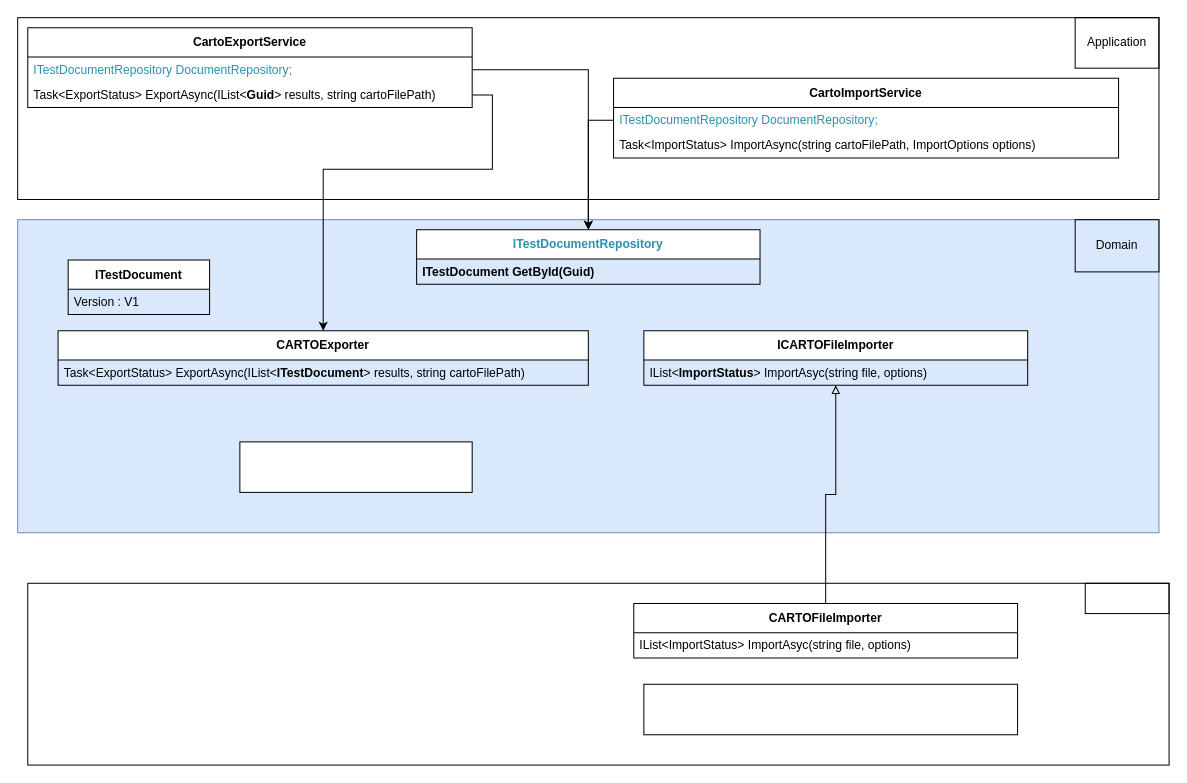
The diagram is 1187 pixels wide and 783 high, and some of its shapes have lost their labels. The centre of each missing label's shape, as x and y in pixels:
"ExportZipHelper" belongs at (355,466).
"Infrastructure" belongs at (1126,598).
"MongoMigration" belongs at (830,709).
